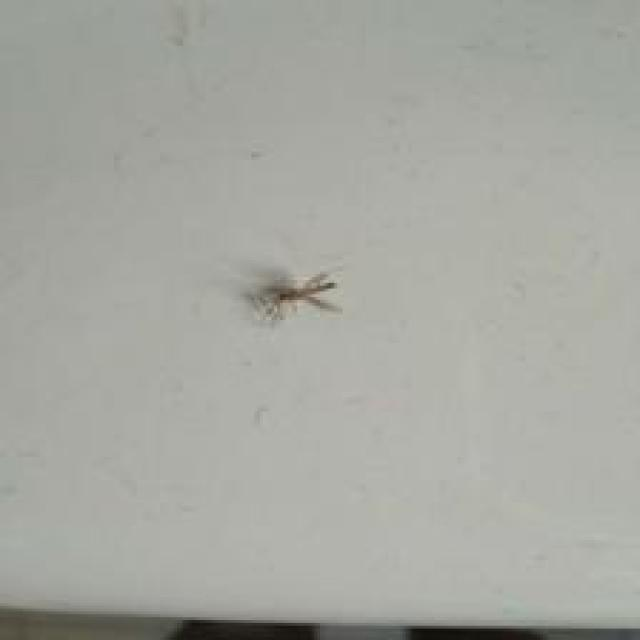Culex: (247, 268, 342, 323)
